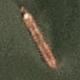ship: (38, 6, 40, 70)
